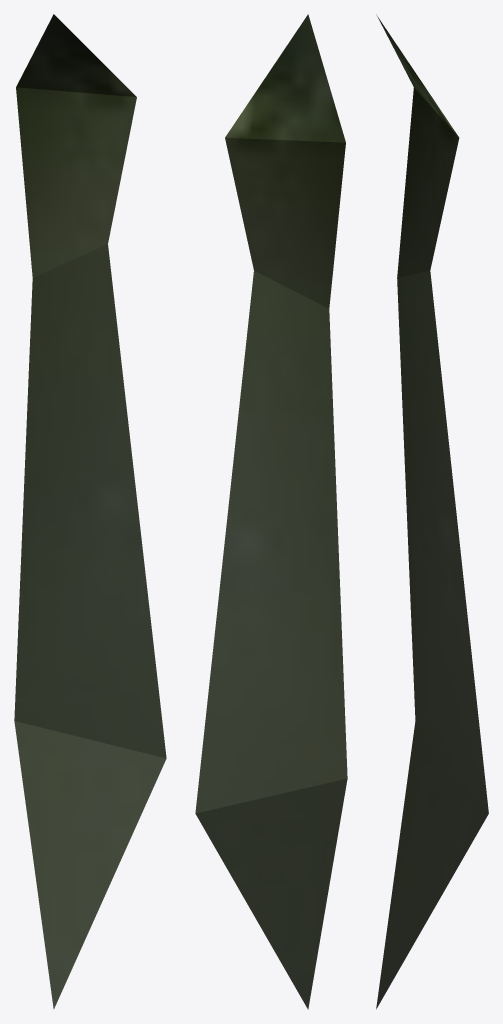
3 views of the same model, side by side, from view 1: azimuth 30°, elevation 25°; view 2: azimuth 210°, elevation 25°; view 3: azimuth 330°, elevation 25° (orthographic).
Bounding box in the file's own units: 0.1401 × 1.18 × 0.0846.
Materials: 1 (1 with a texture image).
